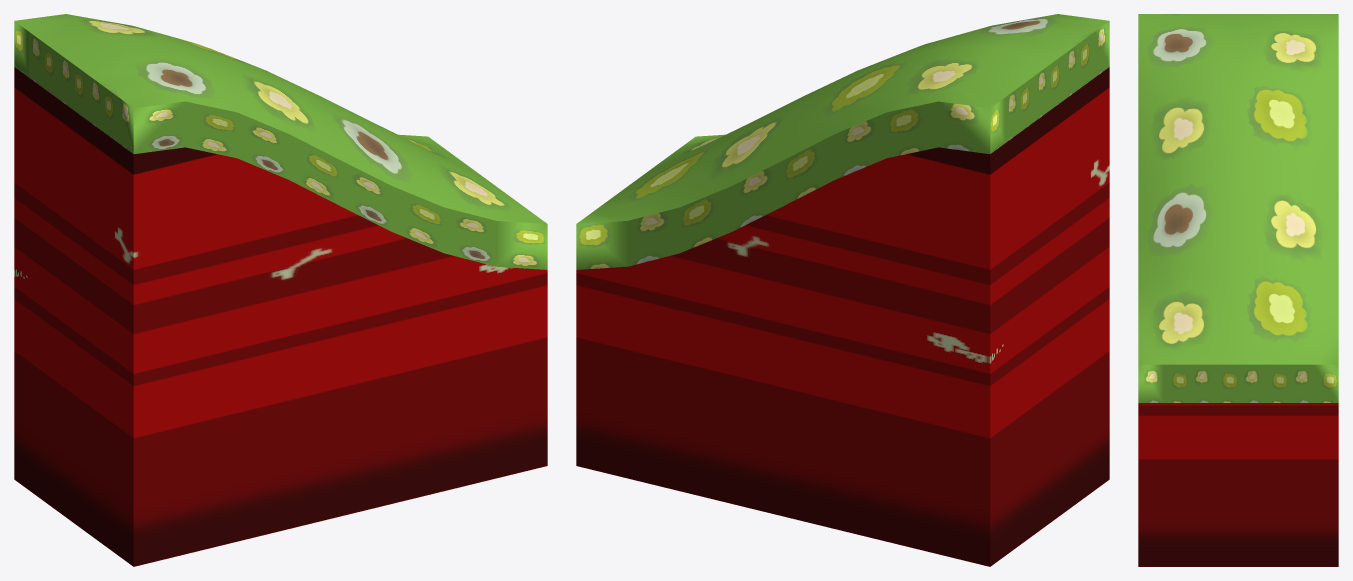
File: block_rect_curved_hill_4x2.obj
The picture shows the model from 3 angles, left to right: view 1: azimuth 30°, elevation 25°; view 2: azimuth 150°, elevation 25°; view 3: azimuth 270°, elevation 25°; orthographic projection. The views are drawn at different scales.
Visible parts, largest first — view 1: polySurface9; view 2: polySurface9; view 3: polySurface9.
Part boxes in pixels (left/top/right/bottom): polySurface9: left=14, top=14, right=547, bottom=566; polySurface9: left=576, top=14, right=1109, bottom=566; polySurface9: left=1138, top=14, right=1338, bottom=566.
Size of the model in its own units: 800 by 856 by 400.
